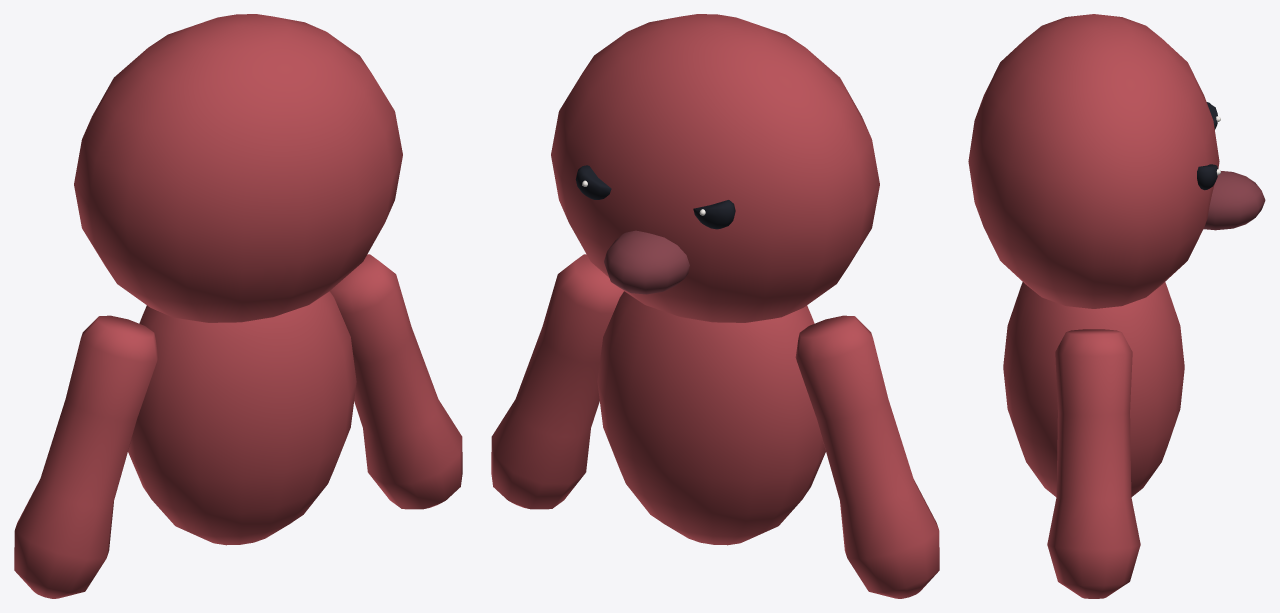
Rendered from enemy.gltf.
The picture shows the model from 3 angles, left to right: view 1: azimuth 30°, elevation 25°; view 2: azimuth 150°, elevation 25°; view 3: azimuth 270°, elevation 25°; orthographic projection. The views are drawn at different scales.
Parts seen in each view (by area): view 1: Head, Body, Arm_R, Arm_L; view 2: Head, Body, Arm_R, Arm_L; view 3: Head, Arm_L, Body.
Part boxes in pixels (box(x1,y1,x2,y2)): Head: box(74, 14, 402, 322); Body: box(128, 291, 356, 545); Arm_R: box(14, 315, 158, 598); Arm_L: box(330, 254, 462, 509); Head: box(551, 14, 879, 322); Body: box(597, 291, 825, 545); Arm_R: box(795, 315, 939, 598); Arm_L: box(491, 254, 623, 509); Head: box(968, 14, 1265, 308); Arm_L: box(1047, 329, 1140, 598); Body: box(1003, 282, 1184, 497).
Bounding box in the file's own units: 0.8726 × 1 × 0.5561.
1 material, 1 textured.
